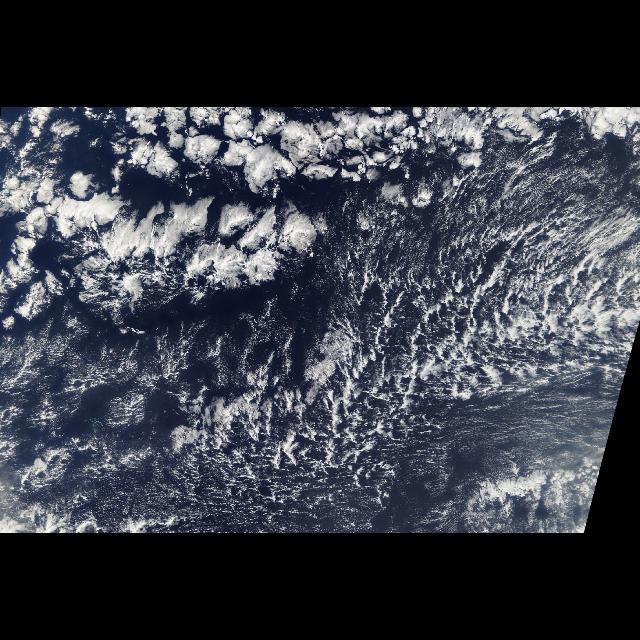Flower: (0, 107, 368, 327)
Gravel: (268, 206, 634, 494)
